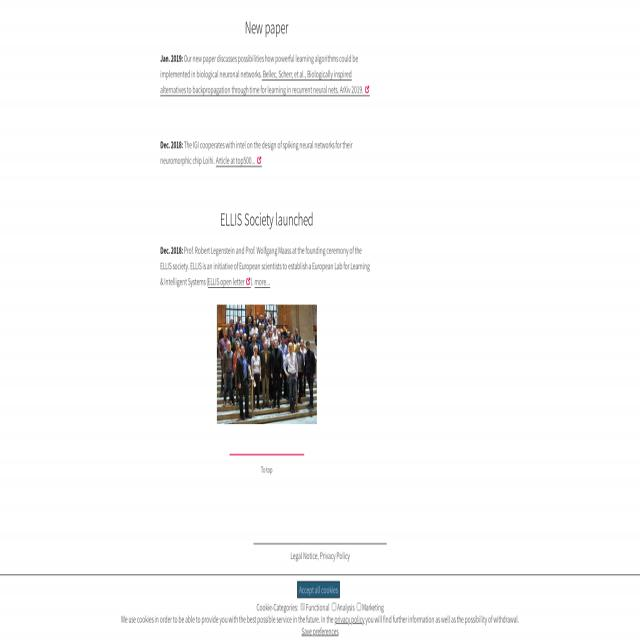button: (217, 305, 317, 424), (297, 581, 339, 598)
field: (300, 602, 305, 610), (332, 602, 336, 610), (357, 602, 361, 610)
